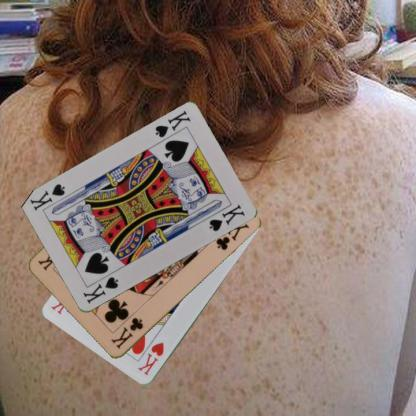Kc: (108, 315, 145, 350)
Kh: (134, 340, 166, 377)
Ks: (80, 274, 120, 306), (152, 108, 192, 139)
